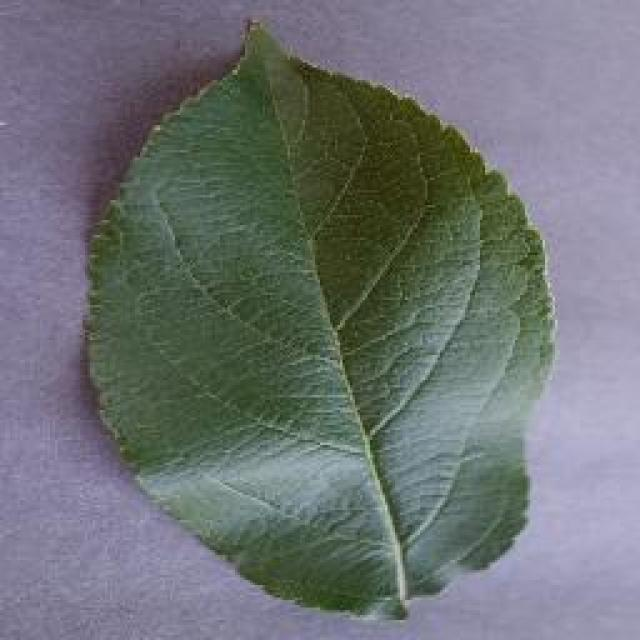apple healthy: (78, 15, 558, 620)
